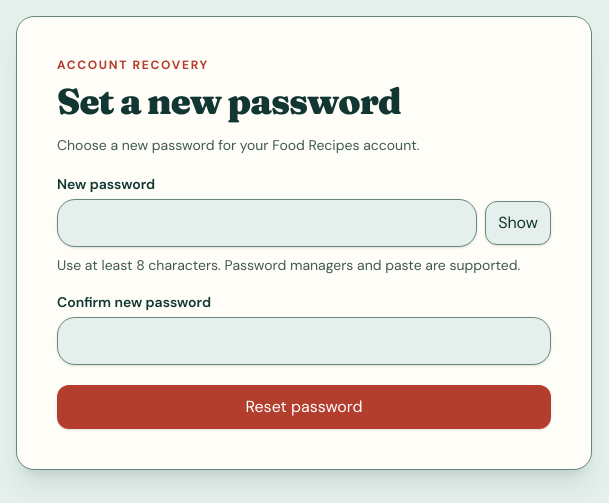
Test: ResetPassword › resets the password and clears the form after success
Type "new-password" into the password field labelled "New password". click: (267, 223)
box: 57,199 -> 477,247
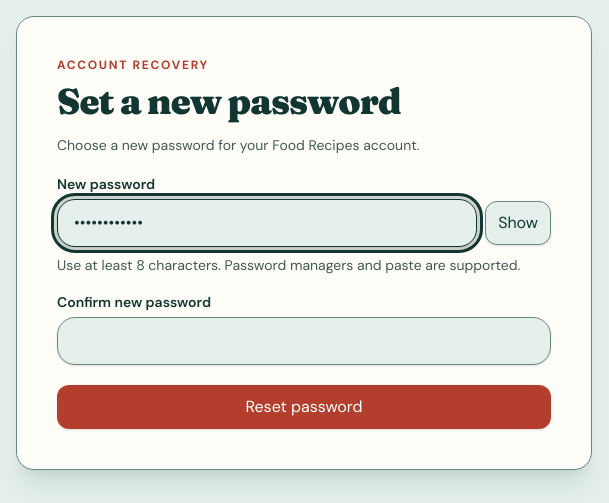
Type "new-password" into the password field labelled "Confirm new password". click: (304, 341)
box: 57,317 -> 551,365
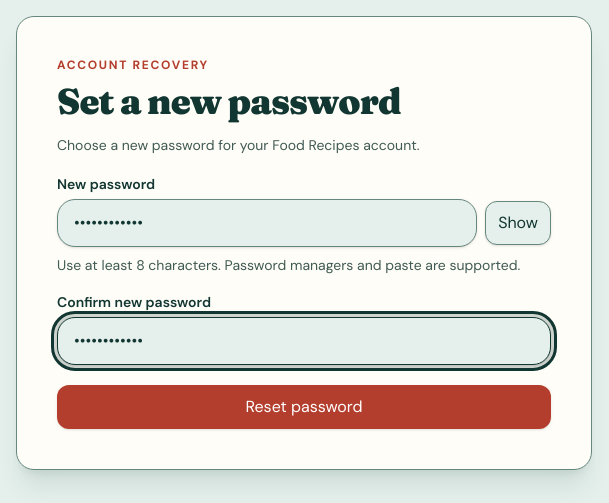
Click the button "Reset password". click: click(304, 407)
box: 57,385 -> 551,429
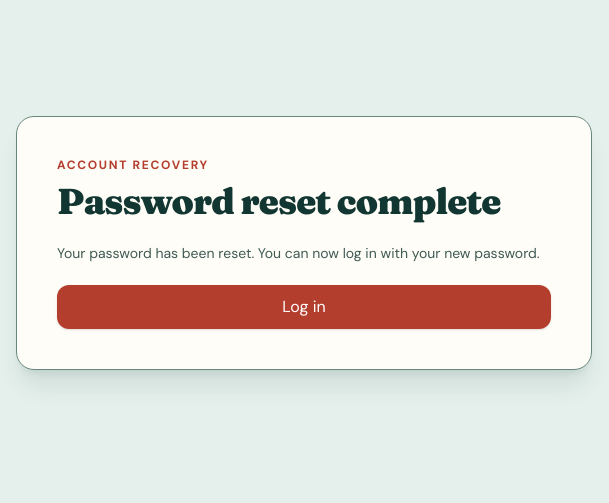
expect the message shows "password has been reset": met, box 57,244 -> 540,262
